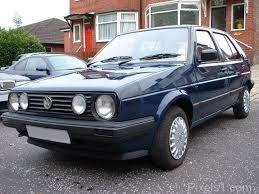Dent: (78, 69, 141, 81)
